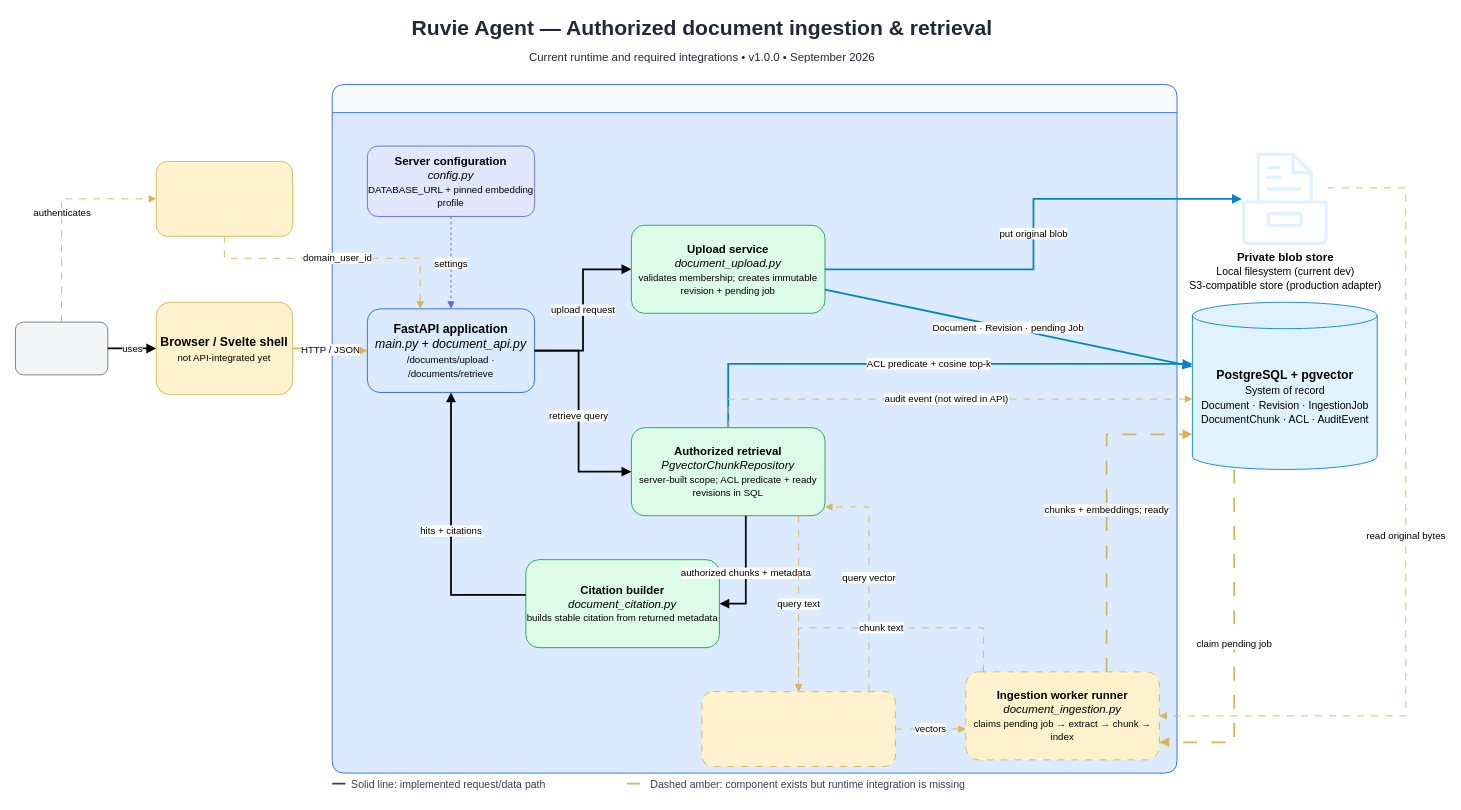
The diagram is 1461 pixels wide and 810 high, and some of its shapes have lost their labels. Each missing label, with the box of its shape:
Auth middleware / IdP must set domain_user_id: (155, 161, 293, 236)
Embedding adapters query + document embeddings production providers not wired: (701, 691, 895, 766)
Ruvie backend: (331, 84, 1177, 773)
User: (15, 321, 108, 375)
